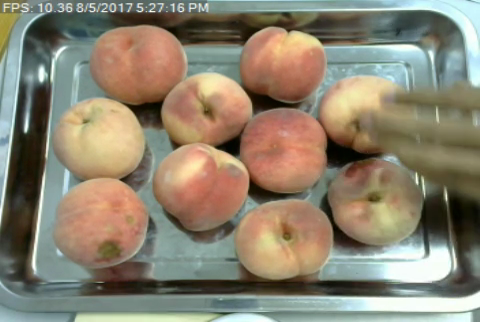Peach: (325, 156, 425, 246), (153, 141, 250, 233), (52, 176, 148, 268), (51, 95, 146, 182), (233, 200, 333, 279), (90, 24, 186, 104), (240, 104, 325, 191), (158, 71, 252, 148), (239, 25, 326, 103), (324, 74, 389, 155)
